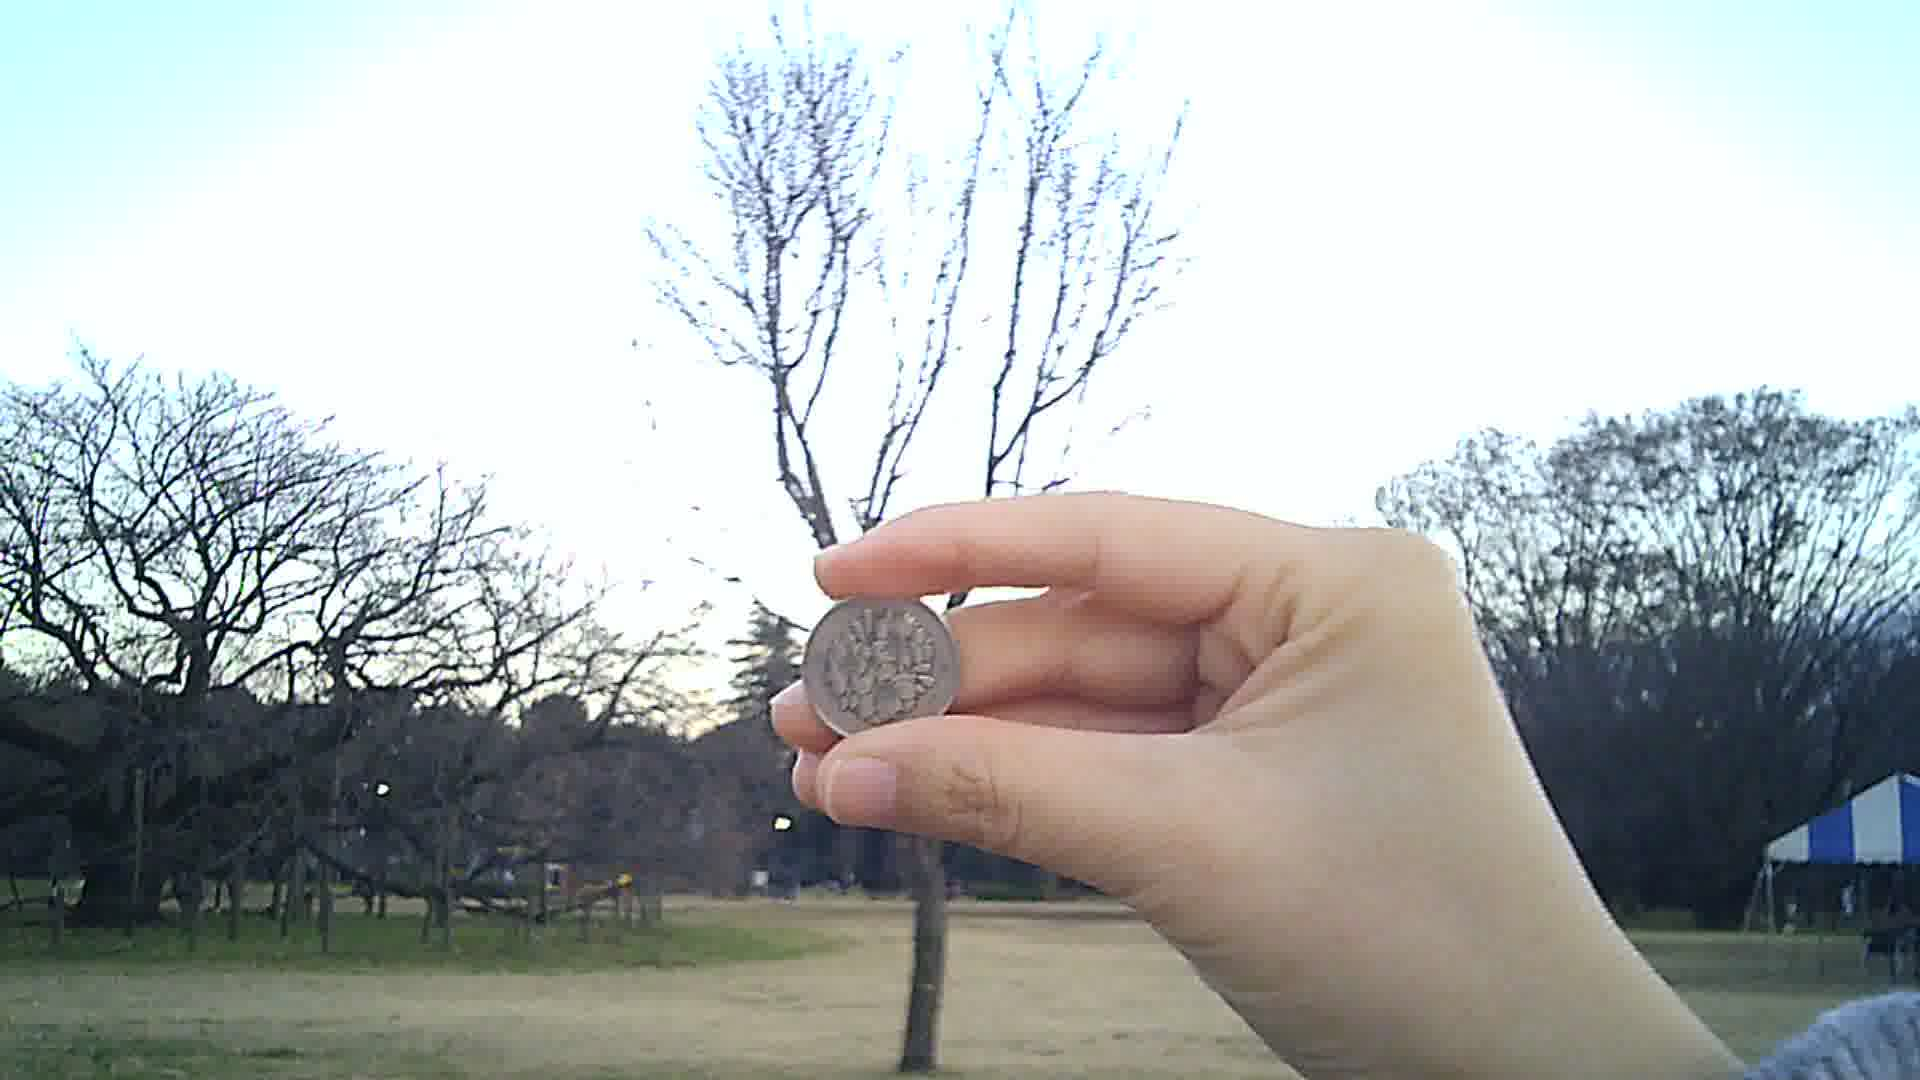100 Yen: (796, 593, 965, 746)
